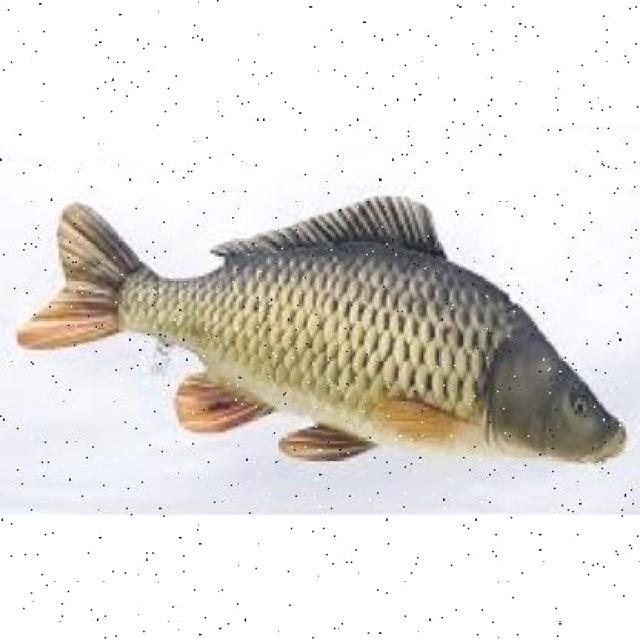ikan-mas: (11, 187, 620, 481)
